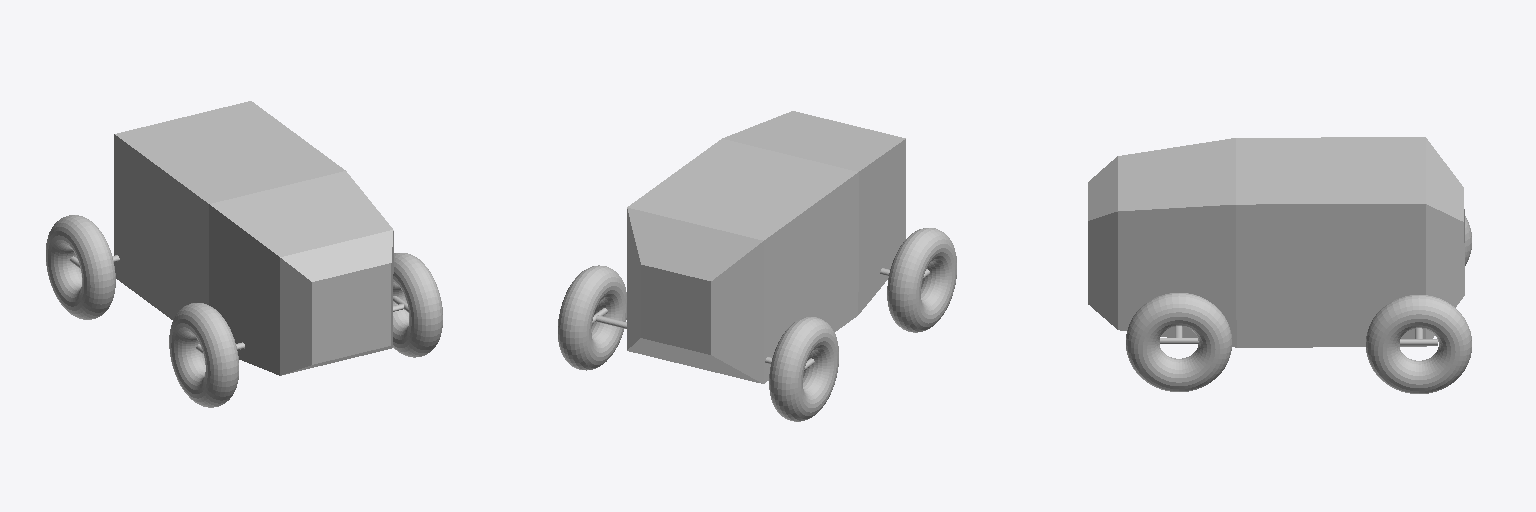
Rendered from car2.obj.
The picture shows the model from 3 angles: view 1: azimuth 30°, elevation 25°; view 2: azimuth 150°, elevation 25°; view 3: azimuth 270°, elevation 25°; orthographic projection.
Visible parts, largest first — view 1: Cube.001; view 2: Cube.001; view 3: Cube.001.
Part boxes in pixels (bbox=[...]): Cube.001: bbox=[46, 101, 442, 407]; Cube.001: bbox=[558, 111, 956, 421]; Cube.001: bbox=[1088, 137, 1471, 393].
Size of the model in its own units: 3.52 by 2.38 by 4.87.